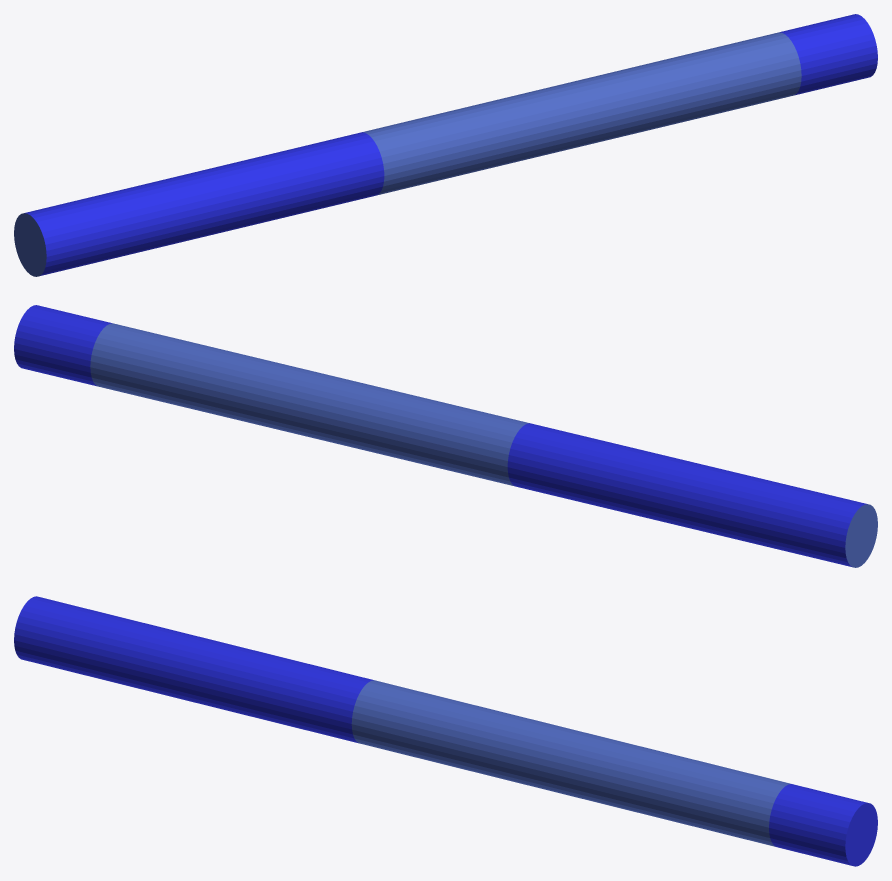
The model's file is player_pen.glb.
3 views of the same model, one above another, from view 1: azimuth 30°, elevation 25°; view 2: azimuth 150°, elevation 25°; view 3: azimuth 330°, elevation 25° (orthographic).
Parts seen in each view (by area): view 1: Cylinder; view 2: Cylinder; view 3: Cylinder.
Part boxes in pixels (x1,y1,x2,y2): Cylinder: [14, 14, 877, 276]; Cylinder: [14, 305, 877, 567]; Cylinder: [14, 596, 877, 866].
Size of the model in its own units: 29.41 by 2.13 by 2.
